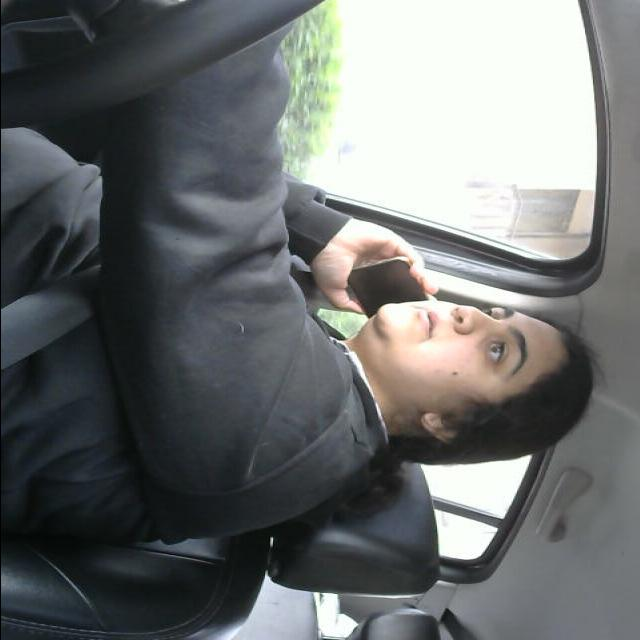mobile use: (330, 246, 450, 312)
